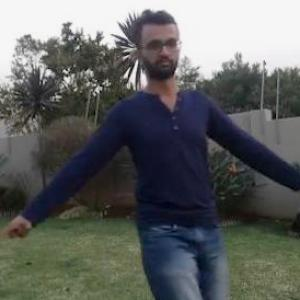land: (34, 43, 287, 299)
